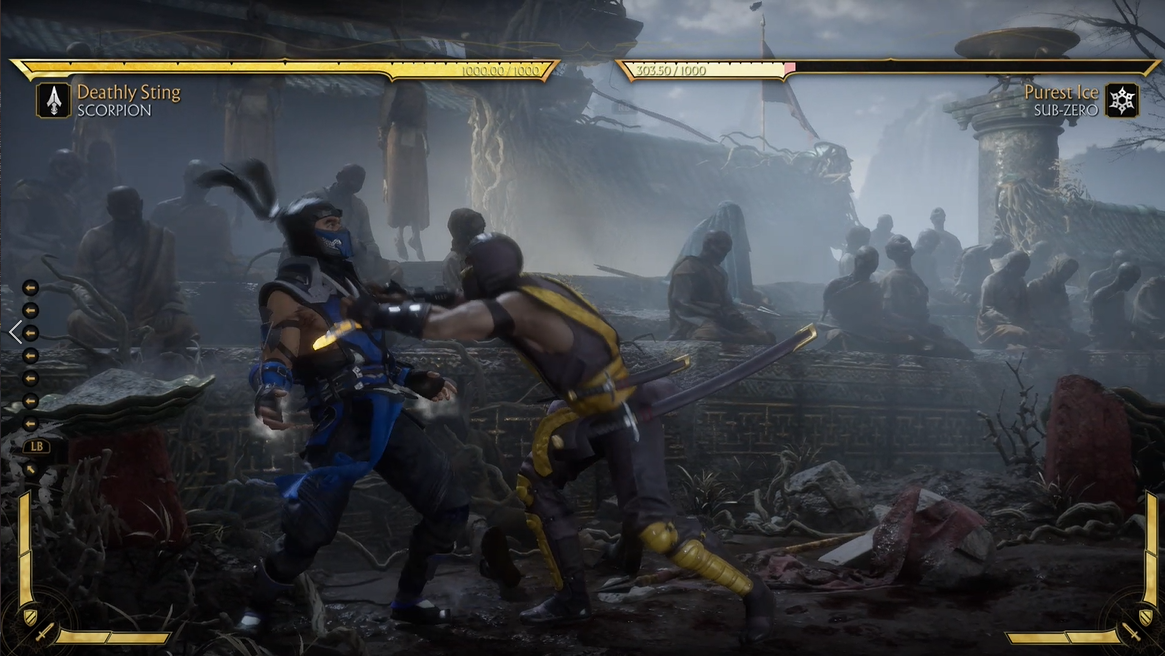grab: (217, 182, 832, 629)
